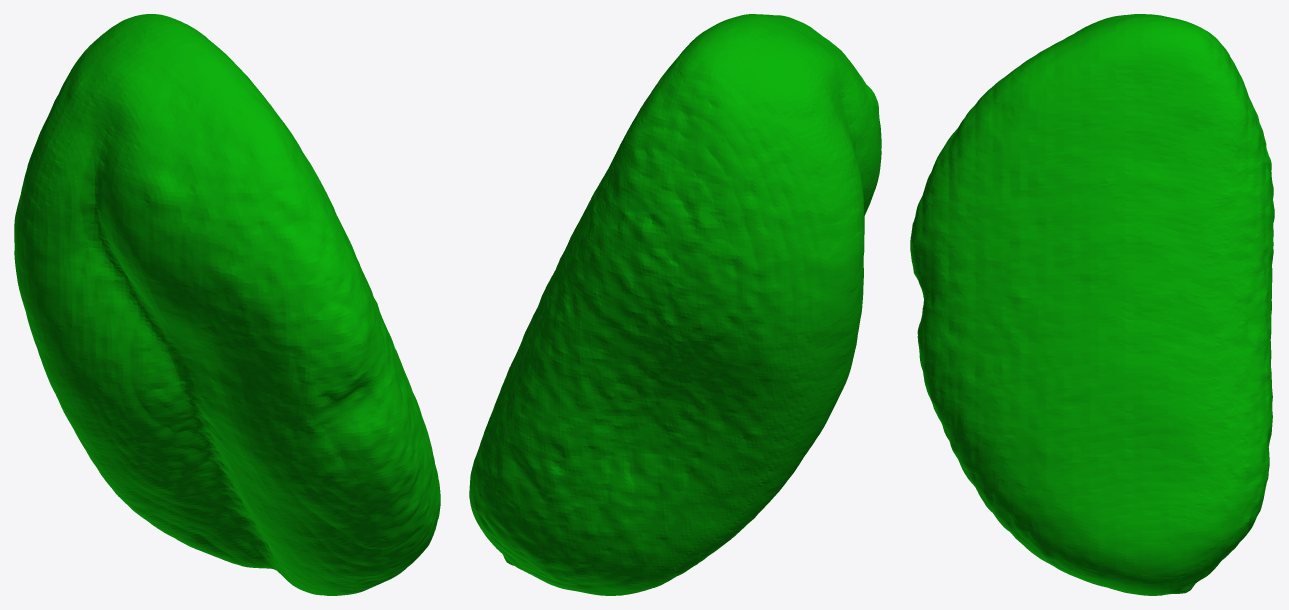
The model's file is 3DPX-017775.glb.
The picture shows the model from 3 angles, left to right: view 1: azimuth 30°, elevation 25°; view 2: azimuth 150°, elevation 25°; view 3: azimuth 270°, elevation 25°; orthographic projection. The views are drawn at different scales.
Parts seen in each view (by area): view 1: allium_schoenoprasum_-_chive-pymesh; view 2: allium_schoenoprasum_-_chive-pymesh; view 3: allium_schoenoprasum_-_chive-pymesh.
Part boxes in pixels (box(x1,y1,x2,y2)): allium_schoenoprasum_-_chive-pymesh: box(14, 14, 440, 595); allium_schoenoprasum_-_chive-pymesh: box(469, 14, 881, 595); allium_schoenoprasum_-_chive-pymesh: box(910, 14, 1274, 595).
Bounding box in the file's own units: 17.71 × 26.73 × 17.52.
